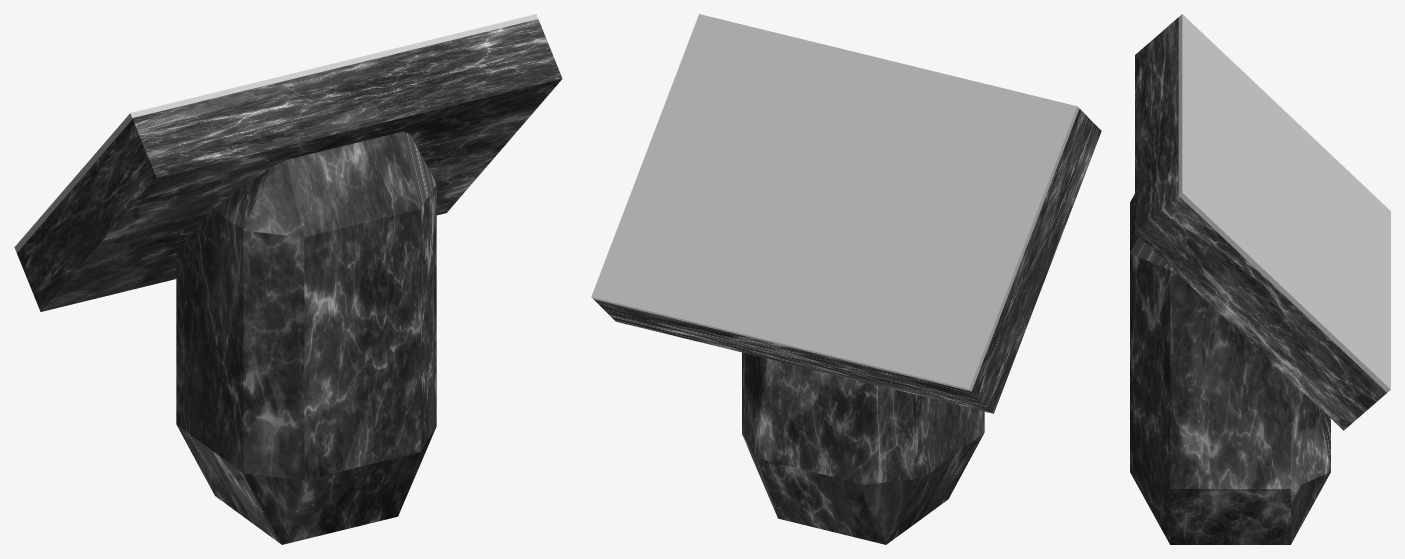
Rendered from Stone Stand.fbx.
3 renders of one model, left to right at view 1: azimuth 30°, elevation 25°; view 2: azimuth 150°, elevation 25°; view 3: azimuth 270°, elevation 25°, orthographic. The views are drawn at different scales.
Parts seen in each view (by area): view 1: Stone Display Base, Display, DisplaySurface; view 2: DisplaySurface, Stone Display Base, Display; view 3: Stone Display Base, DisplaySurface, Display.
Part boxes in pixels (left/top/right/bottom): Stone Display Base: left=176, top=131, right=436, bottom=544; Display: left=17, top=19, right=562, bottom=311; DisplaySurface: left=14, top=14, right=538, bottom=252; DisplaySurface: left=591, top=14, right=1079, bottom=391; Stone Display Base: left=742, top=352, right=984, bottom=544; Display: left=594, top=108, right=1101, bottom=413; Stone Display Base: left=1130, top=194, right=1330, bottom=544; DisplaySurface: left=1178, top=14, right=1390, bottom=392; Display: left=1135, top=17, right=1386, bottom=430.
Bounding box in the file's own units: 1050 × 1142 × 649.
